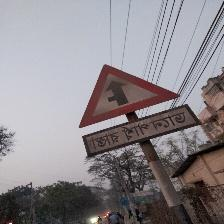Side-road-right: (77, 63, 194, 158)
